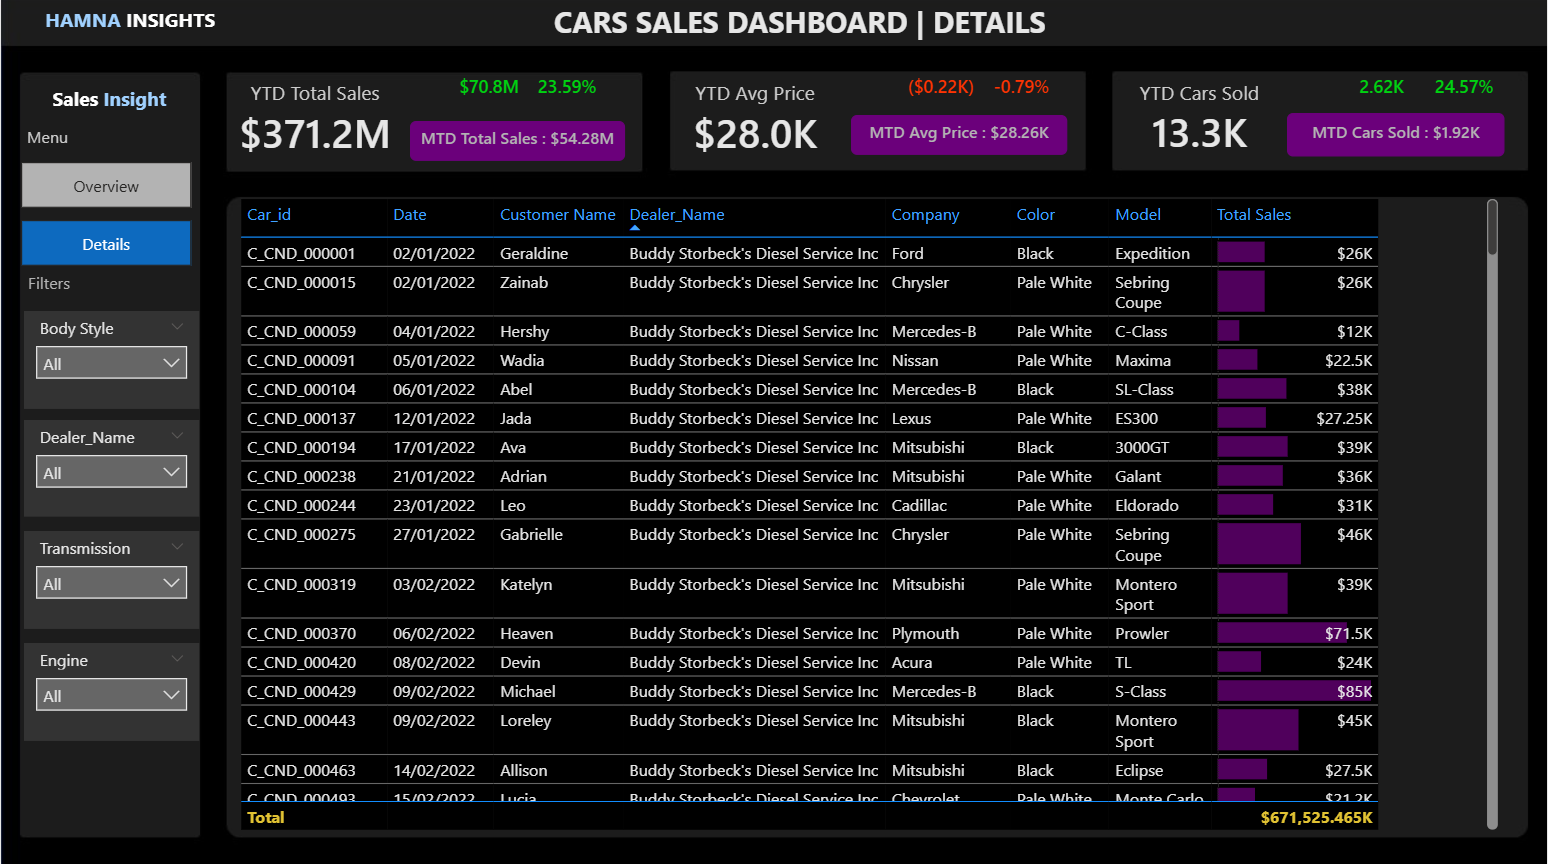

The dashboard page shown, as its layout file describes it:
{"tool":"powerbi","page":{"name":"Details","canvas":[1280,720],"ordinal":1},"visuals":[{"type":"card","title":"YTD Total Sales","fields":{"Values":["car_data.YTD Total Sales"]},"box":[180.9,69.1,157.6,67.1],"z":0},{"type":"card","fields":{"Values":["car_data.Sales Difference"]},"box":[369.9,62.1,67.9,29.8],"z":1000},{"type":"card","fields":{"Values":["car_data.YOY Sales Growth"]},"box":[434.5,62.1,67.9,29.8],"z":2000},{"type":"card","fields":{"Values":["car_data.MTD KPI"]},"box":[338.5,103.1,178,33.1],"z":3000},{"type":"card","title":"YTD Avg Price","fields":{"Values":["car_data.YTD Avg Price"]},"box":[545.7,69.1,157.6,67.1],"z":4000},{"type":"card","fields":{"Values":["car_data.Avg Price Diff"]},"box":[744,61.2,67.9,30.6],"z":5000},{"type":"card","fields":{"Values":["car_data.YOY Avg Price Growth"]},"box":[811,61.2,67,30.6],"z":6000},{"type":"card","fields":{"Values":["car_data.MTD Avg Price KPI"]},"box":[703.1,98.8,178.9,33.2],"z":7000},{"type":"card","title":"YTD Cars Sold","fields":{"Values":["car_data.YTD Cars Sold"]},"box":[912.5,68.6,158.2,66.8],"z":8000},{"type":"card","fields":{"Values":["car_data.Cars Sold Diff"]},"box":[1108.1,60.4,68.7,32.3],"z":9000},{"type":"card","fields":{"Values":["car_data.YOY Car Sold Growth"]},"box":[1176.8,60.4,67.9,33.1],"z":10000},{"type":"card","fields":{"Values":["car_data.MTD Cars Sold KPI"]},"box":[1064.3,96.8,180.4,35.6],"z":11000},{"type":"textbox","box":[452.3,0,501.1,58.2],"z":12000},{"type":"slicer","fields":{"Values":["car_data.Dealer_Name"]},"box":[19,351.1,144.9,80.2],"z":13000},{"type":"slicer","fields":{"Values":["car_data.Transmission"]},"box":[19,442.5,144.9,81.1],"z":14000},{"type":"slicer","fields":{"Values":["car_data.Body Style"]},"box":[19,260.5,144.9,81.1],"z":15000},{"type":"slicer","fields":{"Values":["car_data.Engine"]},"box":[19,535.6,144.9,81.1],"z":16000},{"type":"textbox","box":[17.3,223.4,150.1,31.9],"z":17000},{"type":"tableEx","fields":{"Values":["car_data.Car_id","car_data.Date","car_data.Customer Name","car_data.Dealer_Name","car_data.Company","car_data.Color","car_data.Model","car_data.Total Sales"]},"box":[193.2,163,1051.4,532.2],"z":18000},{"type":"textbox","box":[19,69,141.5,33.6],"z":19000},{"type":"textbox","box":[16.4,102.6,150.1,31.9],"z":20000},{"type":"pageNavigator","box":[16.7,137,141.4,86],"z":20001},{"type":"textbox","box":[16.7,3.5,180.9,33.4],"z":20002}]}

Visuals, with their boxes in screenshot pixels (x1, y1, x2, y2), scaled from the page's 1280x720 canvas onto the 1548x864 screenshot:
"YTD Total Sales" card: rect(219, 83, 409, 163)
card - car_data.Sales Difference: rect(447, 75, 529, 110)
card - car_data.YOY Sales Growth: rect(525, 75, 608, 110)
card - car_data.MTD KPI: rect(409, 124, 625, 163)
"YTD Avg Price" card: rect(660, 83, 851, 163)
card - car_data.Avg Price Diff: rect(900, 73, 982, 110)
card - car_data.YOY Avg Price Growth: rect(981, 73, 1062, 110)
card - car_data.MTD Avg Price KPI: rect(850, 119, 1067, 158)
"YTD Cars Sold" card: rect(1104, 82, 1295, 162)
card - car_data.Cars Sold Diff: rect(1340, 72, 1423, 111)
card - car_data.YOY Car Sold Growth: rect(1423, 72, 1505, 112)
card - car_data.MTD Cars Sold KPI: rect(1287, 116, 1505, 159)
textbox: rect(547, 0, 1153, 70)
slicer - car_data.Dealer_Name: rect(23, 421, 198, 518)
slicer - car_data.Transmission: rect(23, 531, 198, 628)
slicer - car_data.Body Style: rect(23, 313, 198, 410)
slicer - car_data.Engine: rect(23, 643, 198, 740)
textbox: rect(21, 268, 202, 306)
tableEx - car_data.Car_id x car_data.Date: rect(234, 196, 1505, 834)
textbox: rect(23, 83, 194, 123)
textbox: rect(20, 123, 201, 161)
pageNavigator: rect(20, 164, 191, 268)
textbox: rect(20, 4, 239, 44)
